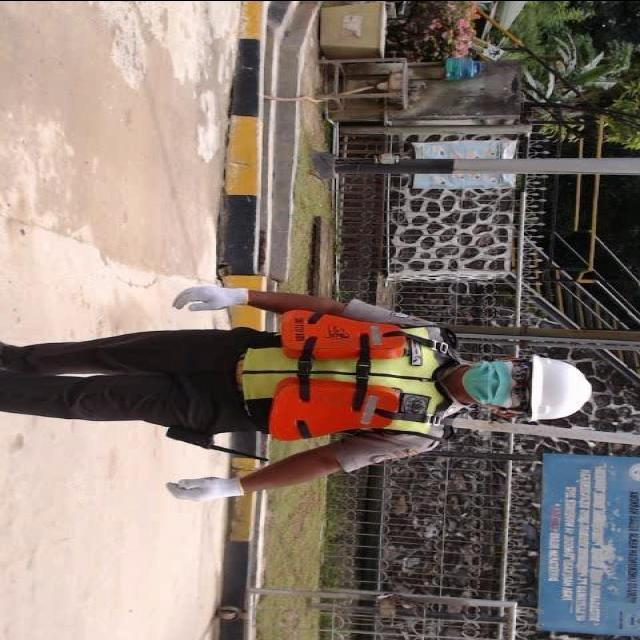helmet: (520, 347, 602, 431)
jacket: (243, 305, 470, 459)
